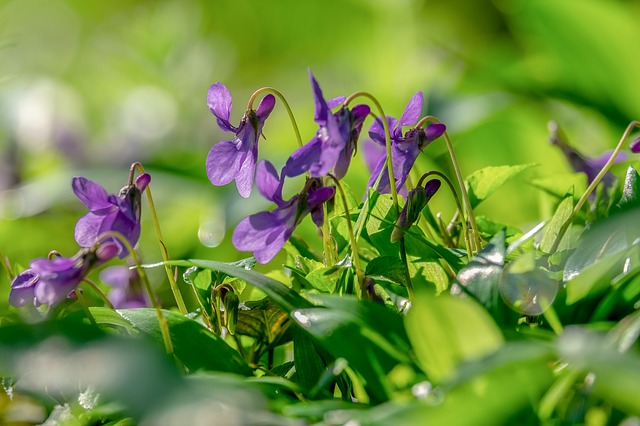violet: (197, 78, 271, 195), (233, 182, 335, 262), (365, 94, 437, 206), (67, 169, 162, 253), (298, 62, 360, 182), (7, 252, 106, 313)
